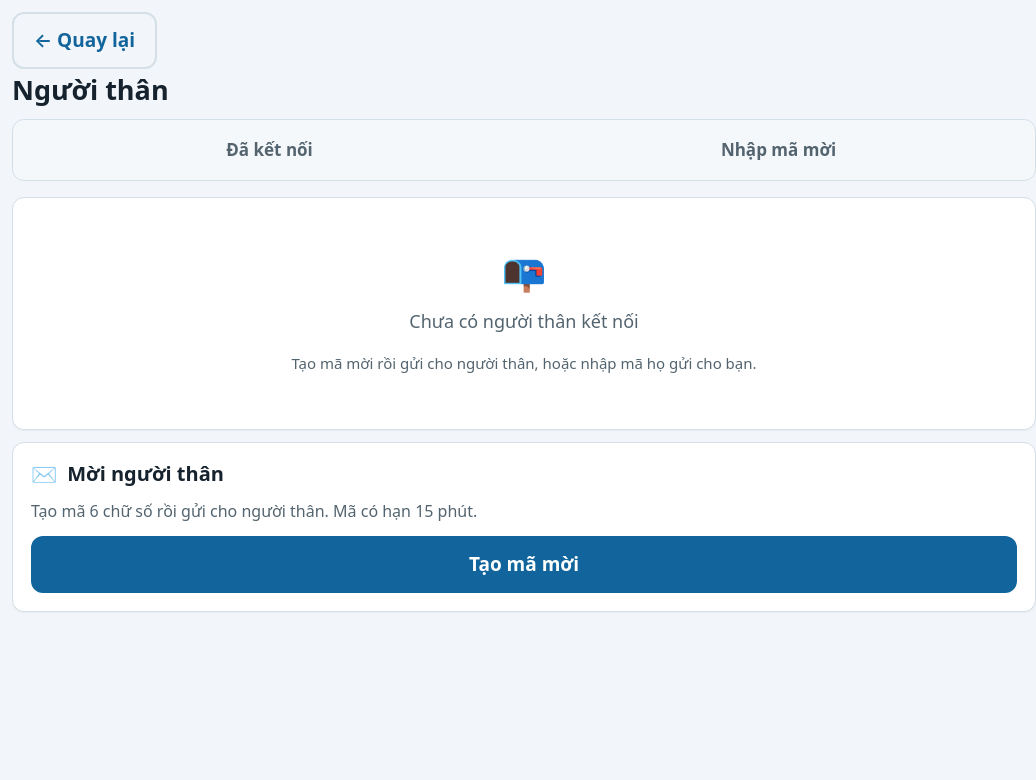
M07 — mã mời › nhập đủ 6 chữ số → kết nối và báo thành công
Click the button "Nhập mã mời": point(778, 150) top-left (528, 126), bottom-right (1029, 174)
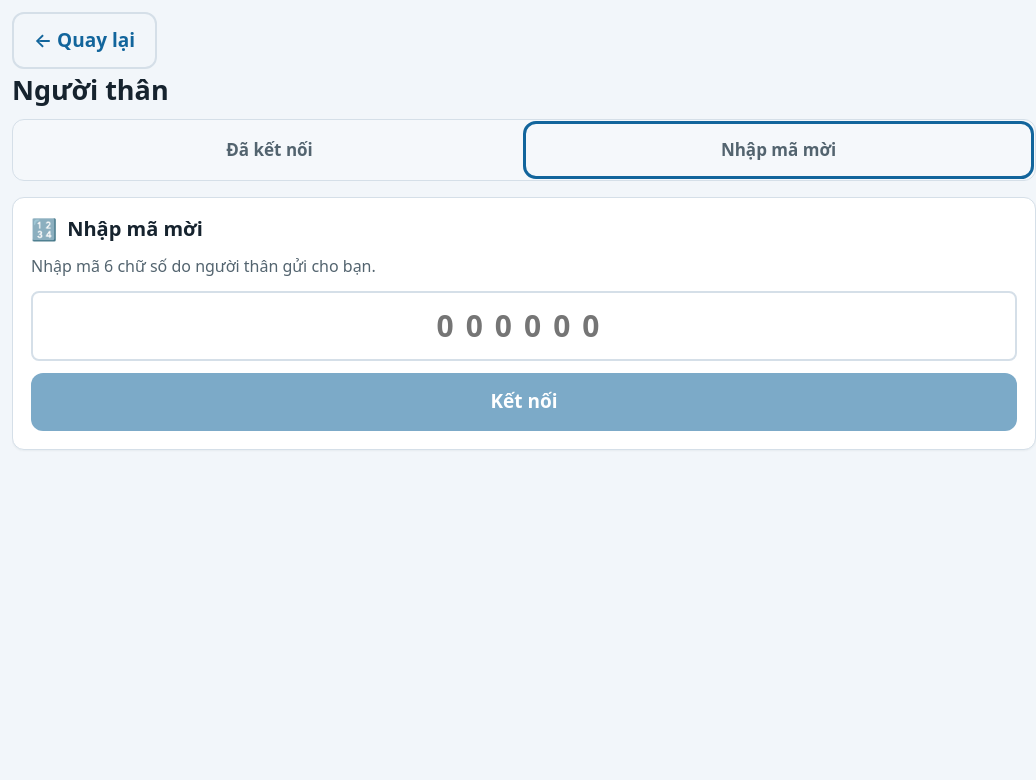
In the field named "Mã mời 6 chữ số": point(524, 326) top-left (31, 291), bottom-right (1017, 362), type "654321"
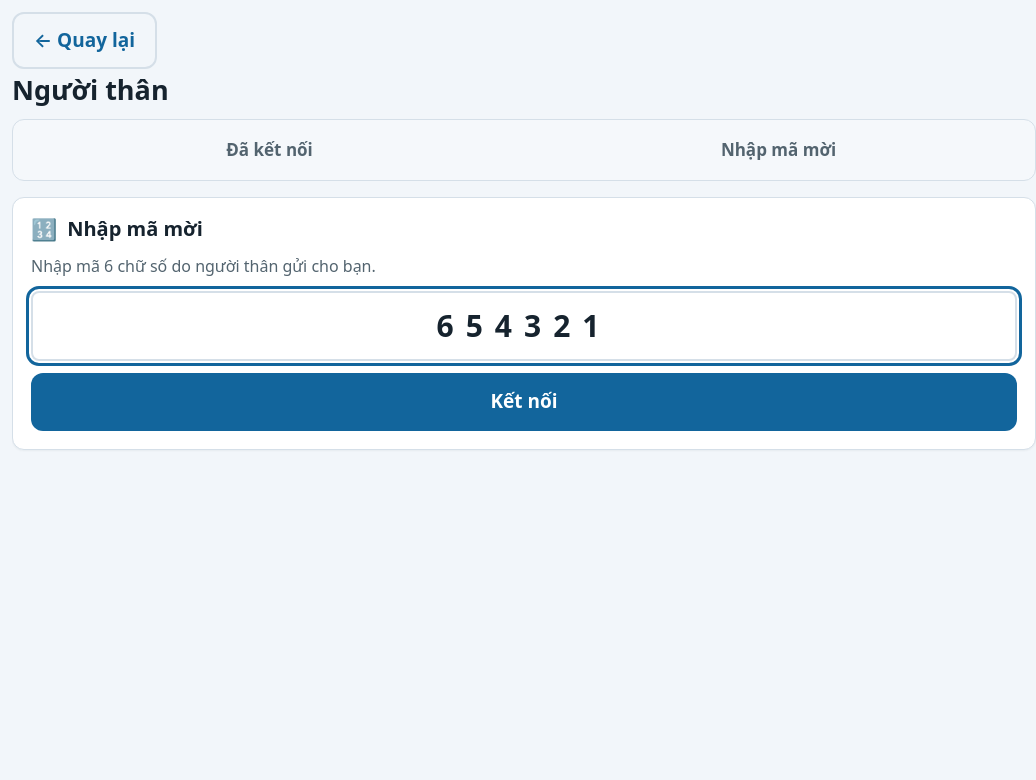
Click the button "Kết nối": point(524, 402) top-left (31, 374), bottom-right (1017, 431)
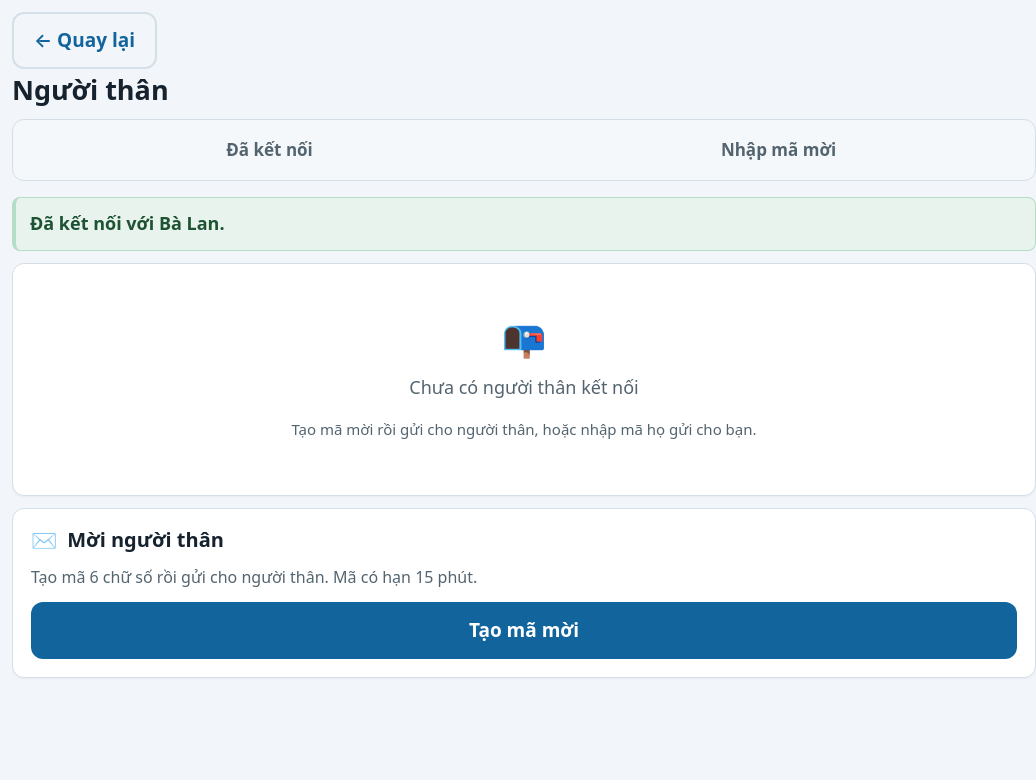
Expected: the text "Đã kết nối với Bà Lan." is shown, top-left (30, 211), bottom-right (225, 235)
